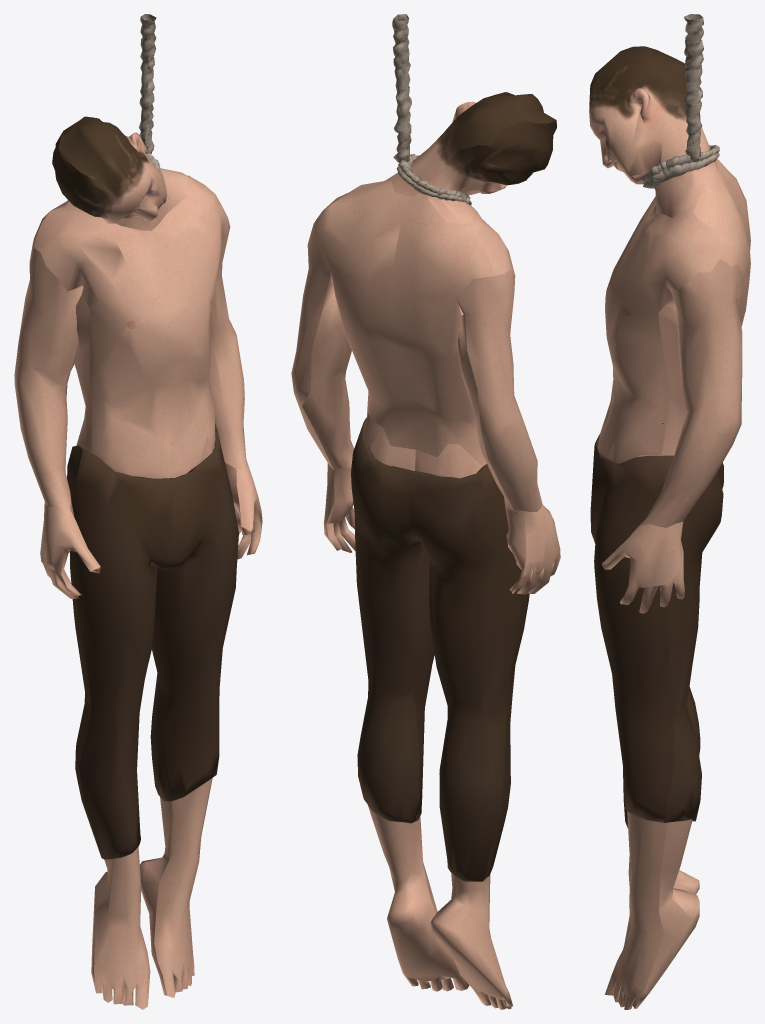
Rendered from hanged_man.glb.
3 renders of one model, left to right at view 1: azimuth 30°, elevation 25°; view 2: azimuth 150°, elevation 25°; view 3: azimuth 270°, elevation 25°, orthographic. The views are drawn at different scales.
Parts seen in each view (by area): view 1: Object_2, Object_3, Object_4; view 2: Object_2, Object_3, Object_4; view 3: Object_2, Object_3, Object_4.
Part boxes in pixels (x1,y1,x2,y2): Object_2: (14,116,262,1009); Object_3: (67,423,238,859); Object_4: (138,14,161,171); Object_2: (291,92,560,1009); Object_3: (351,417,529,881); Object_4: (392,14,471,205); Object_2: (589,46,750,1009); Object_3: (590,434,723,827); Object_4: (642,14,719,188).
Size of the model in its own units: 0.4319 by 1.8 by 0.2654.
3 materials, 3 textured.
